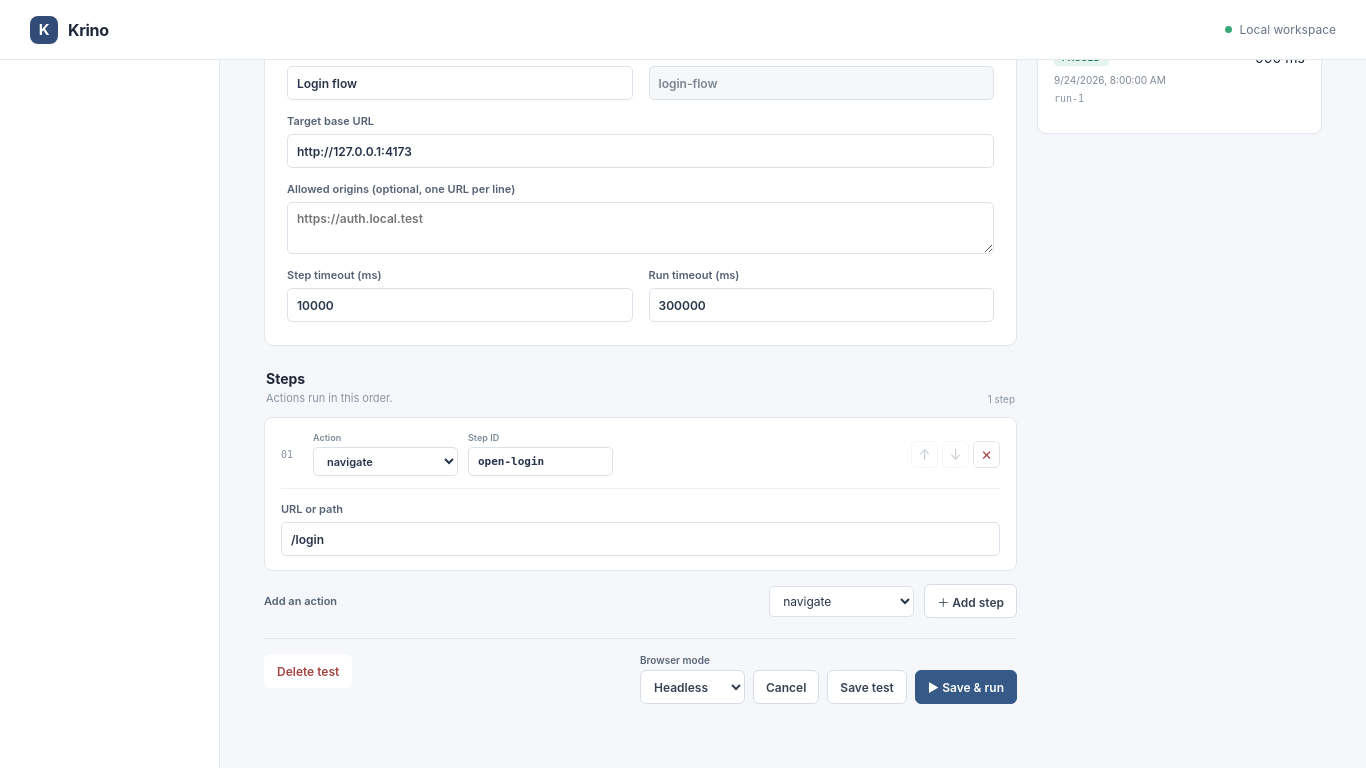
it: Krino UI › saves, runs, and displays run status, ordered results, history and artifacts
This screenshot has width=1366, height=768.
(page scrolled)
Expected: the text "run-1" is shown, [1054, 93, 1084, 104]
Click the button "▶ Save & run". click: (966, 687)
box: [915, 670, 1017, 704]
(page scrolled)
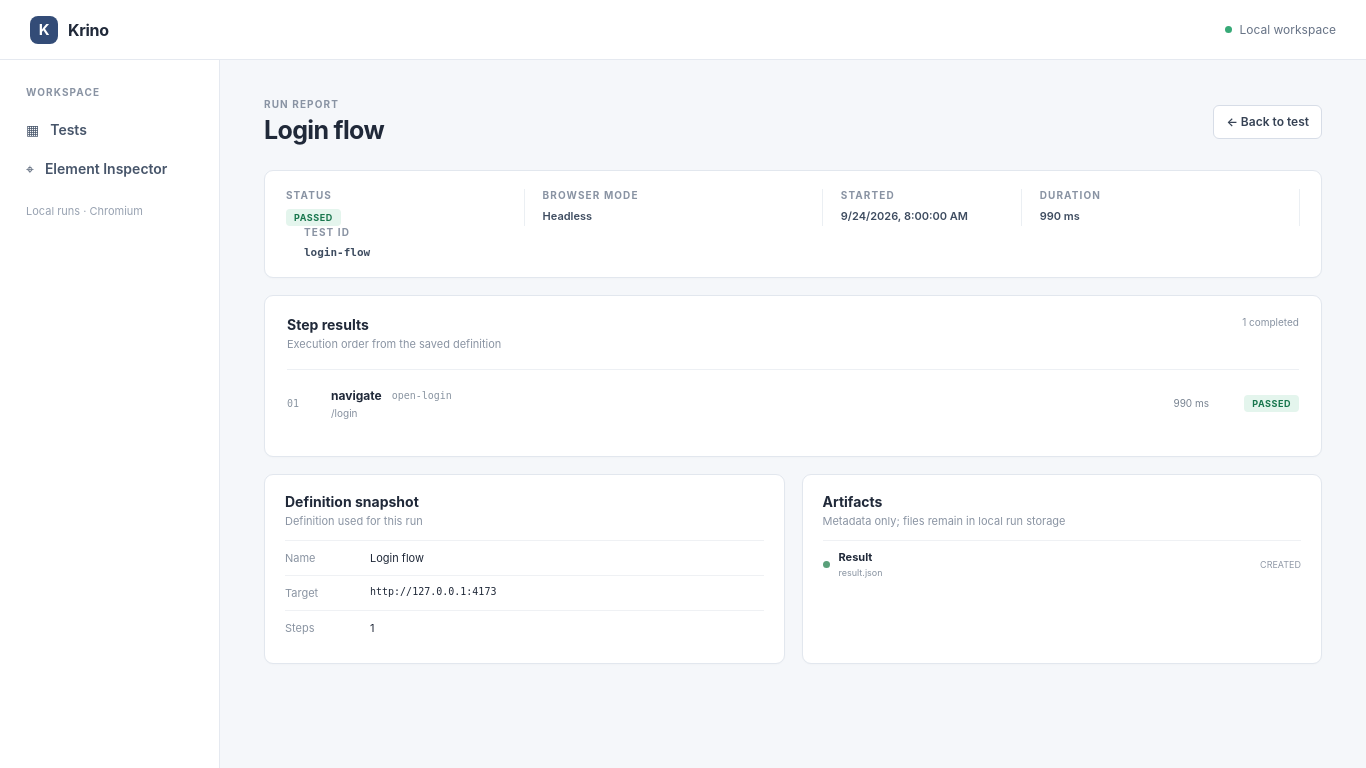
Expected: the heading "Step results" is shown, [287, 316, 369, 333]
Expected: the text "PASSED" is shown 2 times, [286, 209, 341, 226]; [1244, 394, 1299, 412]
Expected: the text "open-login" is shown, [392, 390, 452, 400]
